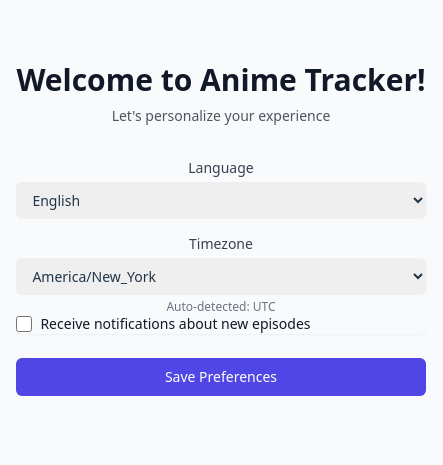
Test: OnboardingPage › handles API errors
Note: Submit the form
What coordinates should you click on to do the following:
click the button "Save Preferences"
I would click on:
 (221, 377)
Its box is [16, 358, 426, 396].
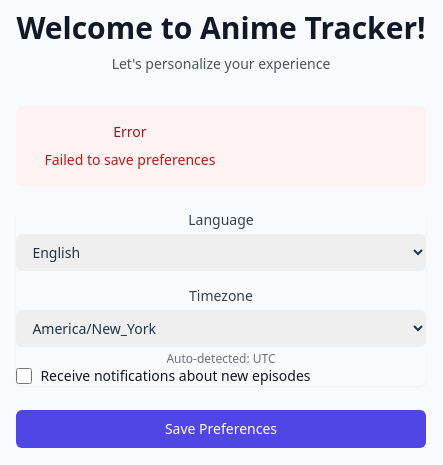
Now the text "Failed to save preferences" is shown, box [44, 150, 215, 170]
